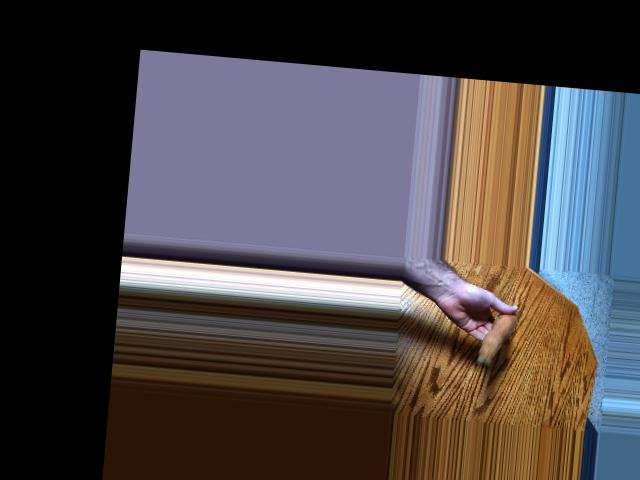sweet_potato: (473, 304, 519, 368)
